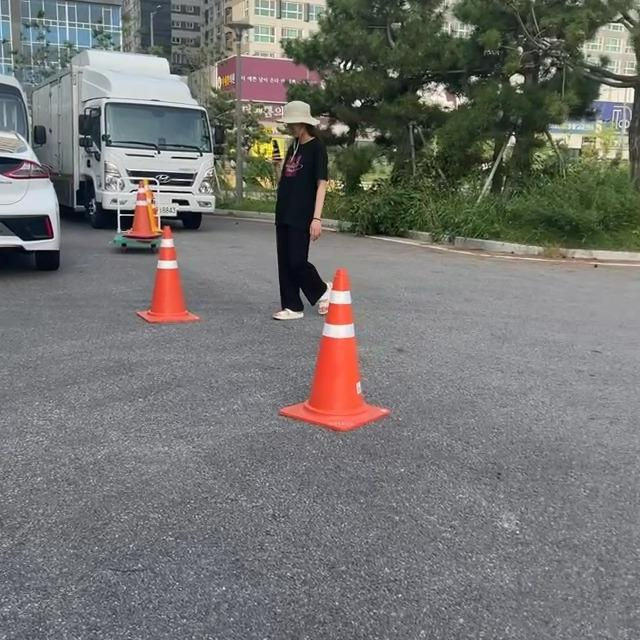fallen_object: (277, 256, 408, 456), (127, 219, 235, 364), (112, 153, 170, 268)
